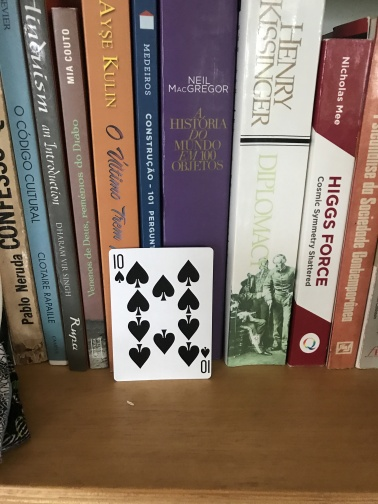ten: (108, 246, 215, 383)
